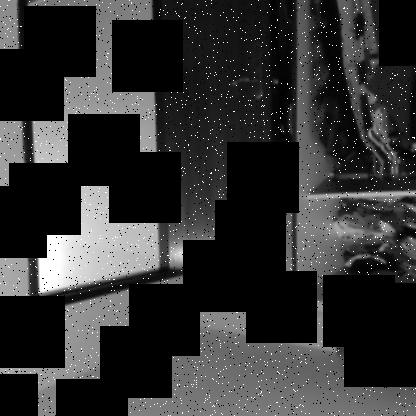Porte: (13, 0, 284, 314)
